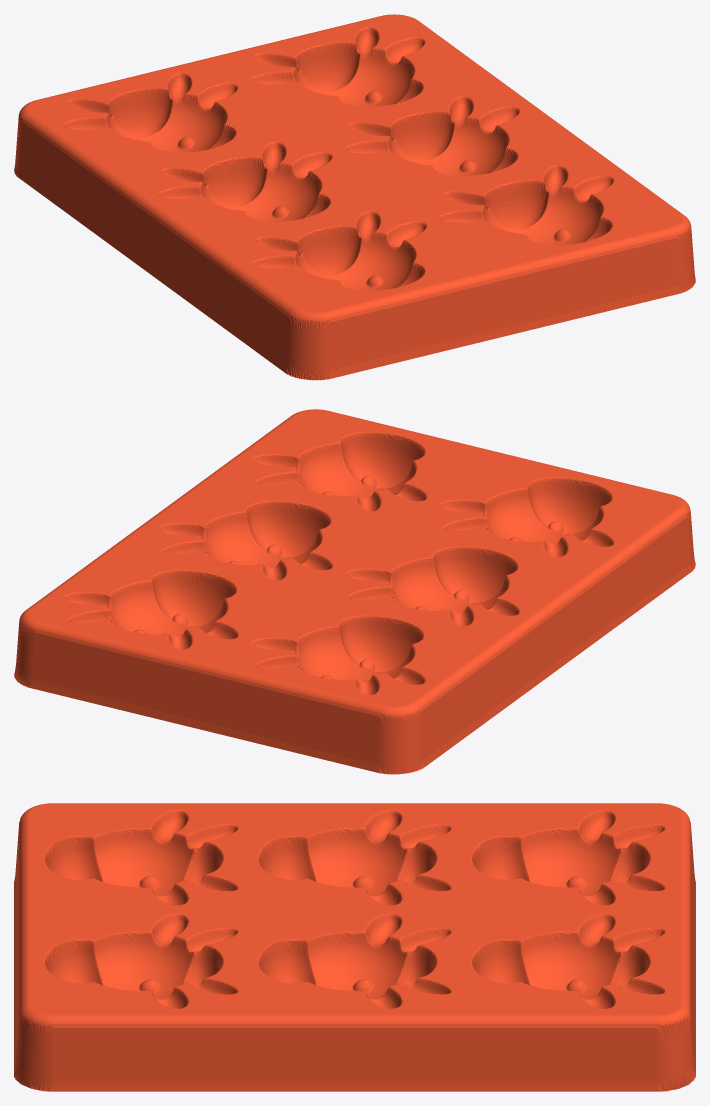
The model's file is mold.glb.
3 views of the same model, one above another, from view 1: azimuth 30°, elevation 25°; view 2: azimuth 150°, elevation 25°; view 3: azimuth 270°, elevation 25° (orthographic). The views are drawn at different scales.
Visible parts, largest first — view 1: geometry_0; view 2: geometry_0; view 3: geometry_0.
Part boxes in pixels (x1,y1,x2,y2): geometry_0: [14, 14, 695, 380]; geometry_0: [14, 409, 695, 774]; geometry_0: [14, 803, 695, 1091].
Bounding box in the file's own units: 0.12 × 0.0175 × 0.1542.
